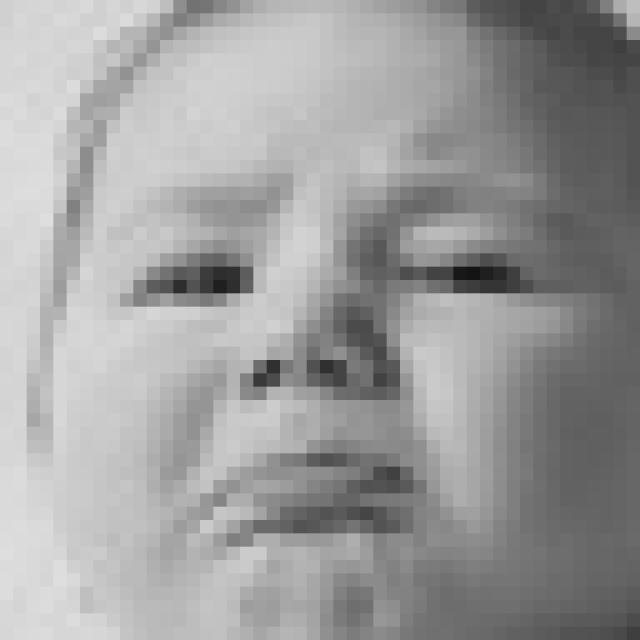sad: (105, 132, 611, 585)
